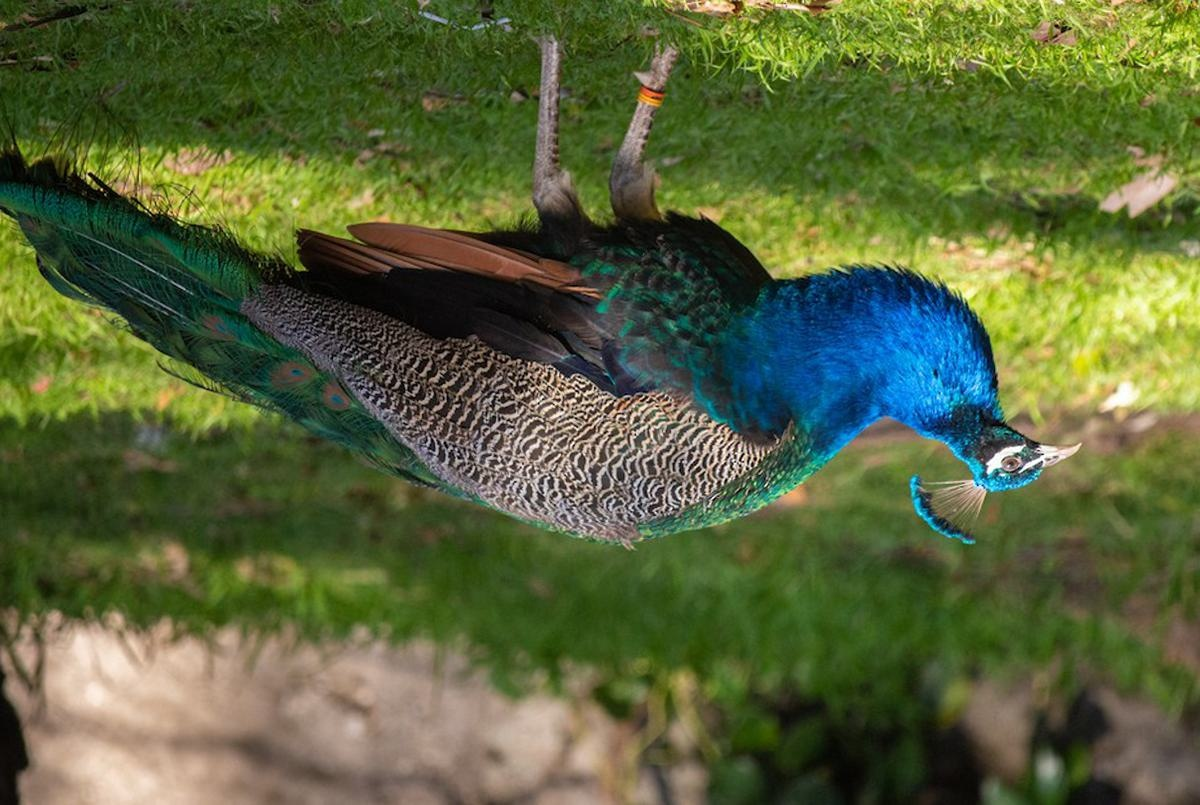peacock: (144, 105, 1086, 574)
